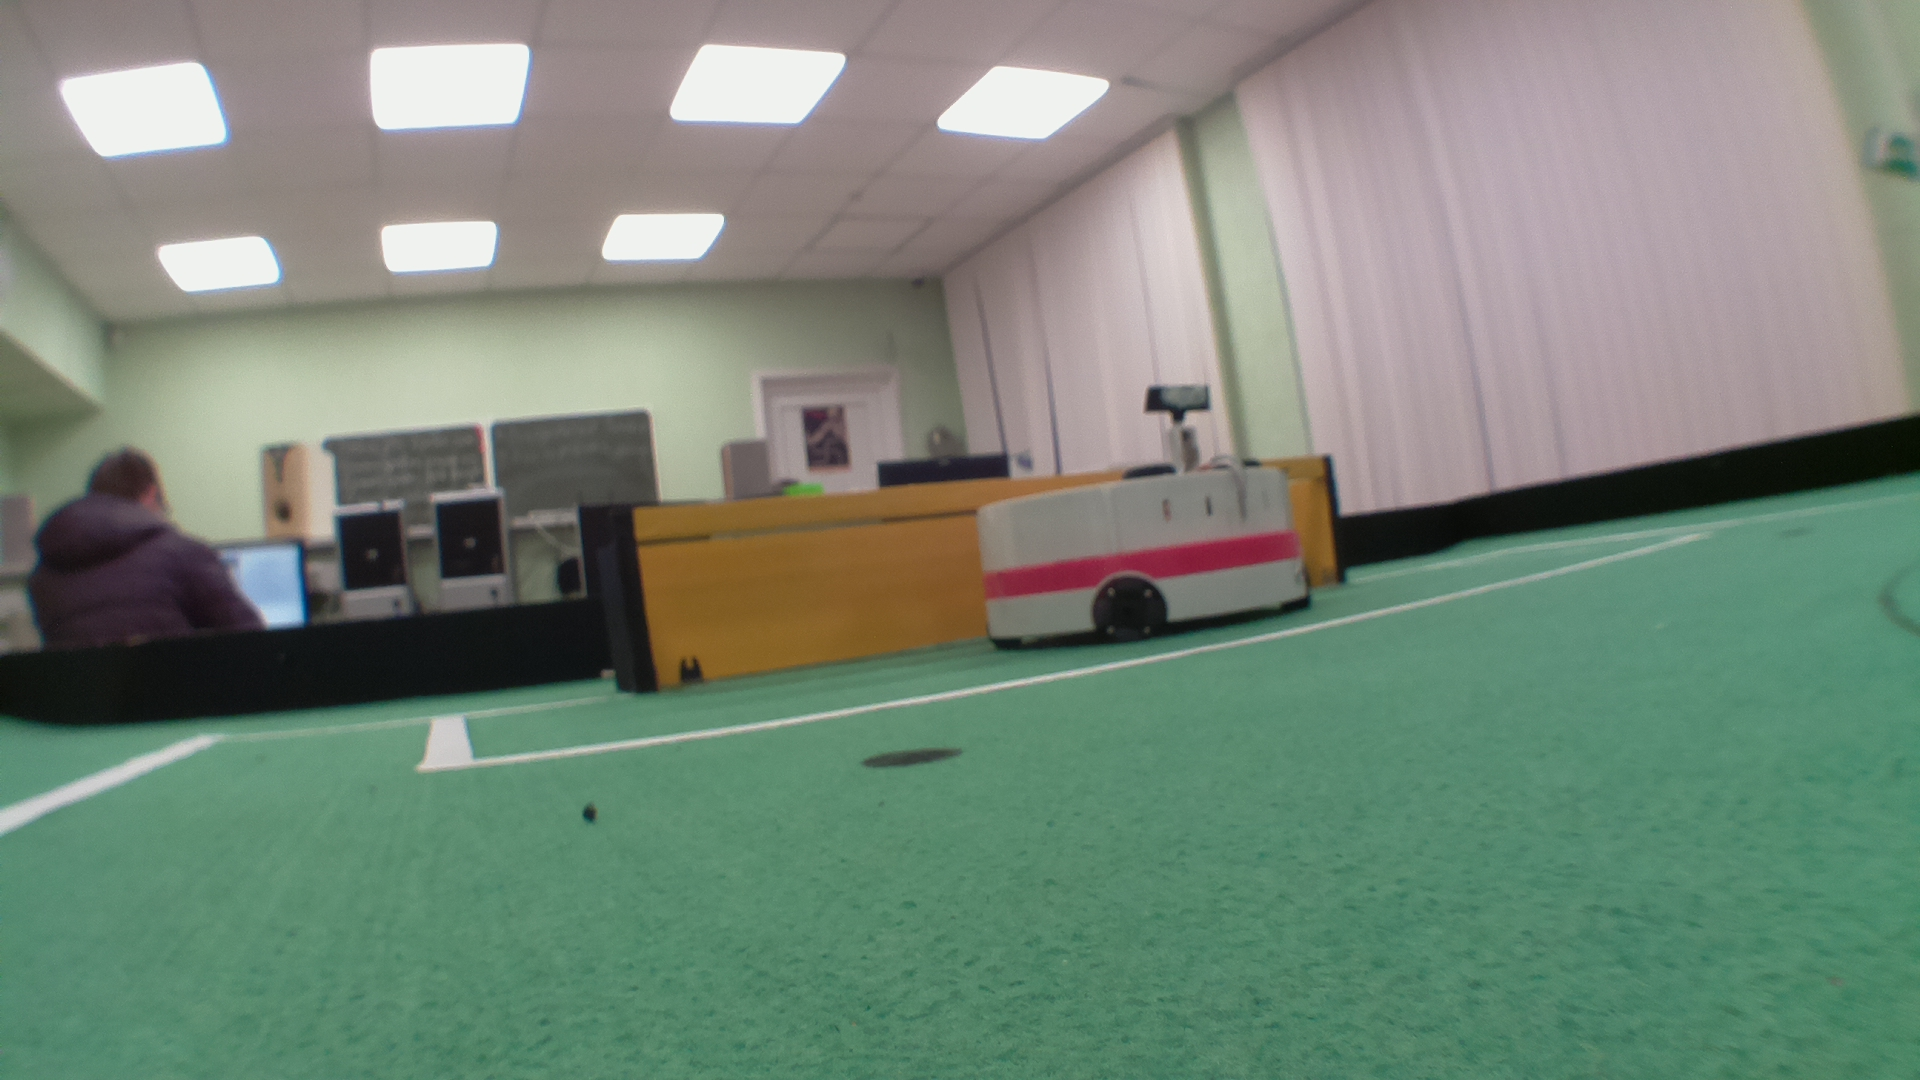YellowGoal: (636, 458, 1340, 691)
